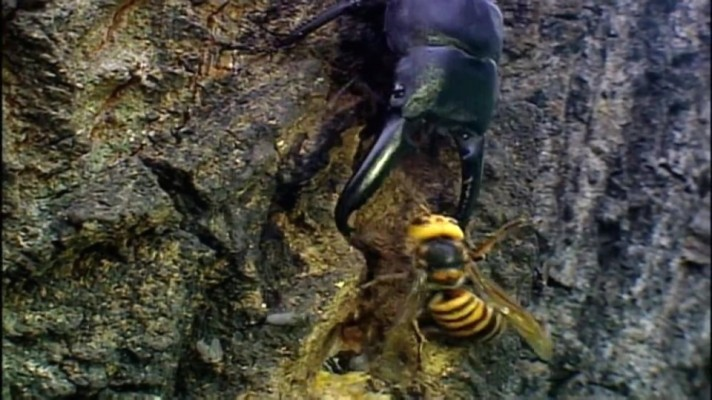asian_giant_hornet: (381, 194, 553, 343)
